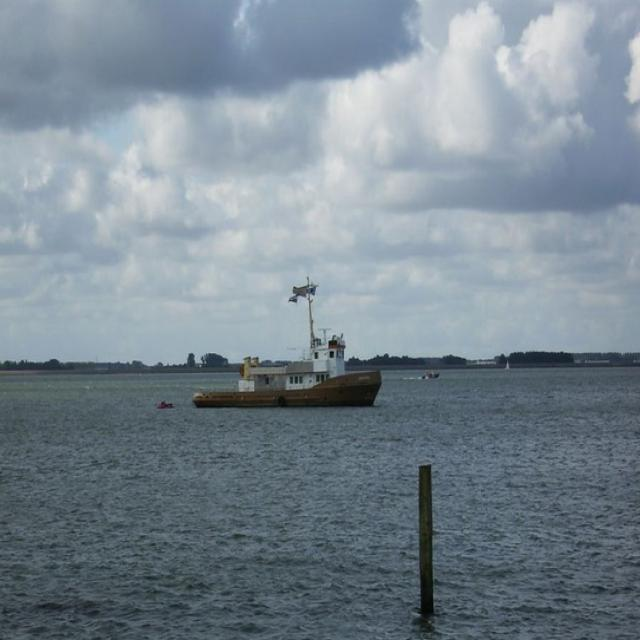houseboat: (198, 280, 380, 430)
